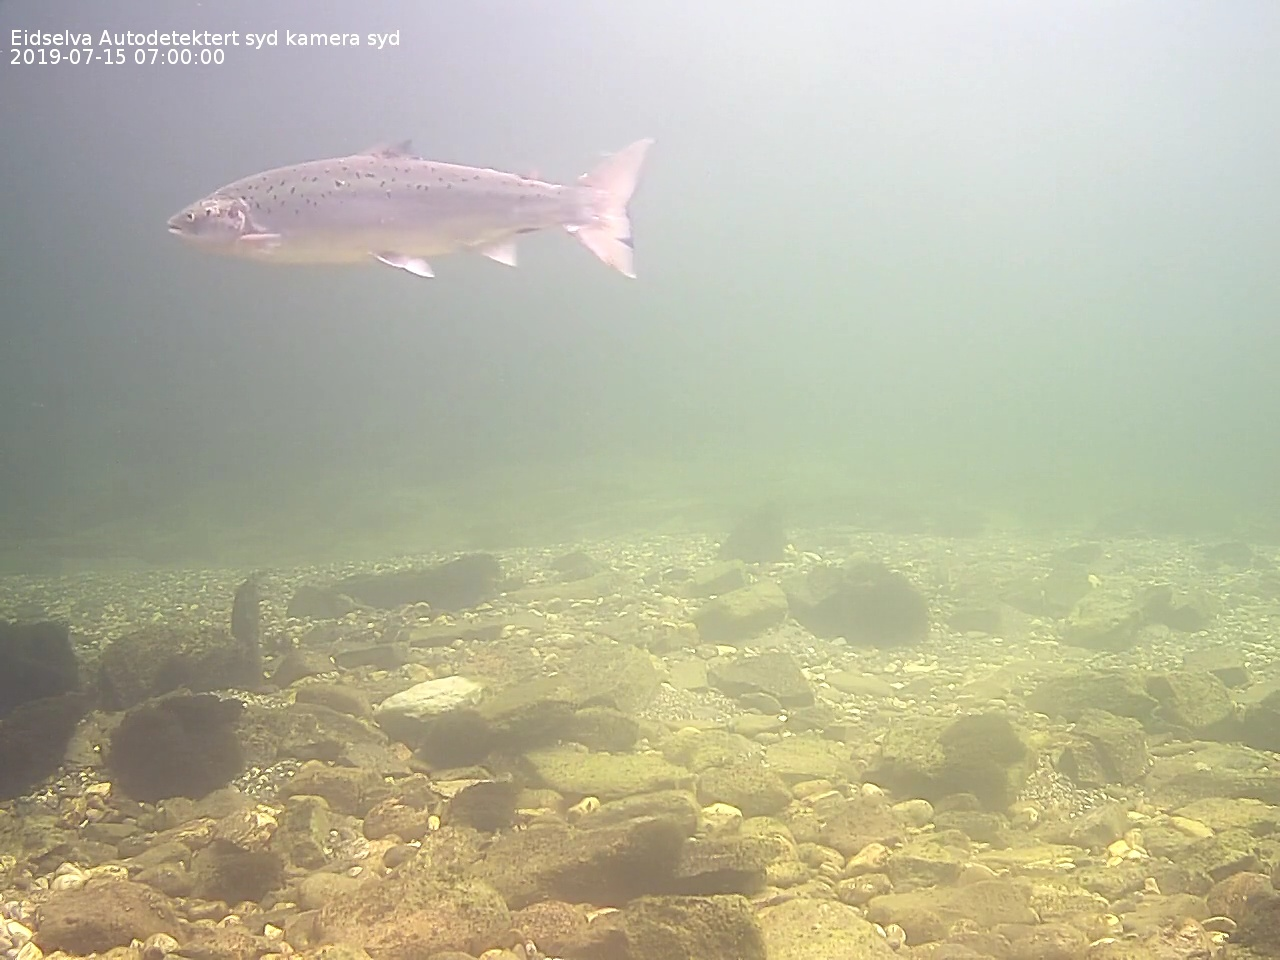salmon: (157, 123, 663, 292)
